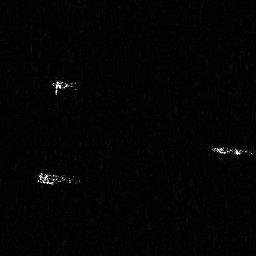ship: (33, 167, 83, 188), (210, 143, 256, 160), (50, 78, 78, 97)
